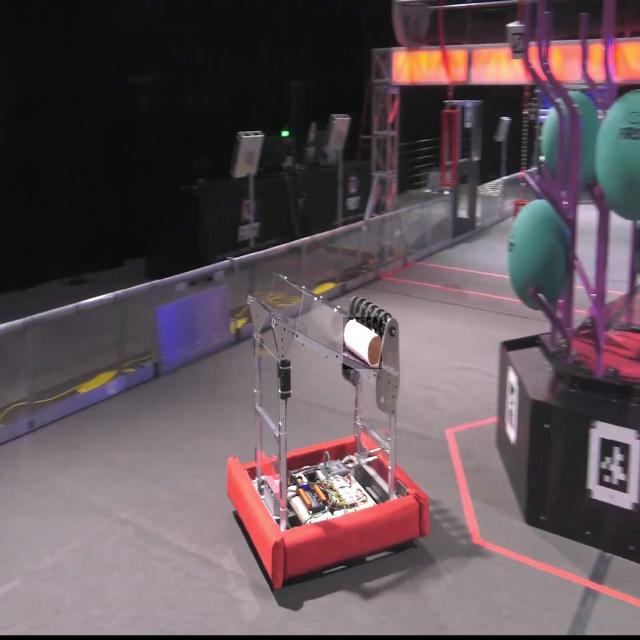Coral: (343, 317, 382, 369)
